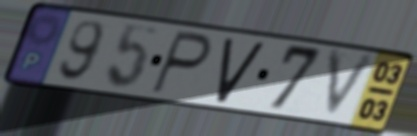5: (104, 24, 162, 93)
7: (266, 41, 325, 113)
9: (57, 19, 108, 83)
P: (147, 28, 216, 98)
V: (320, 47, 382, 123), (213, 37, 269, 105)
